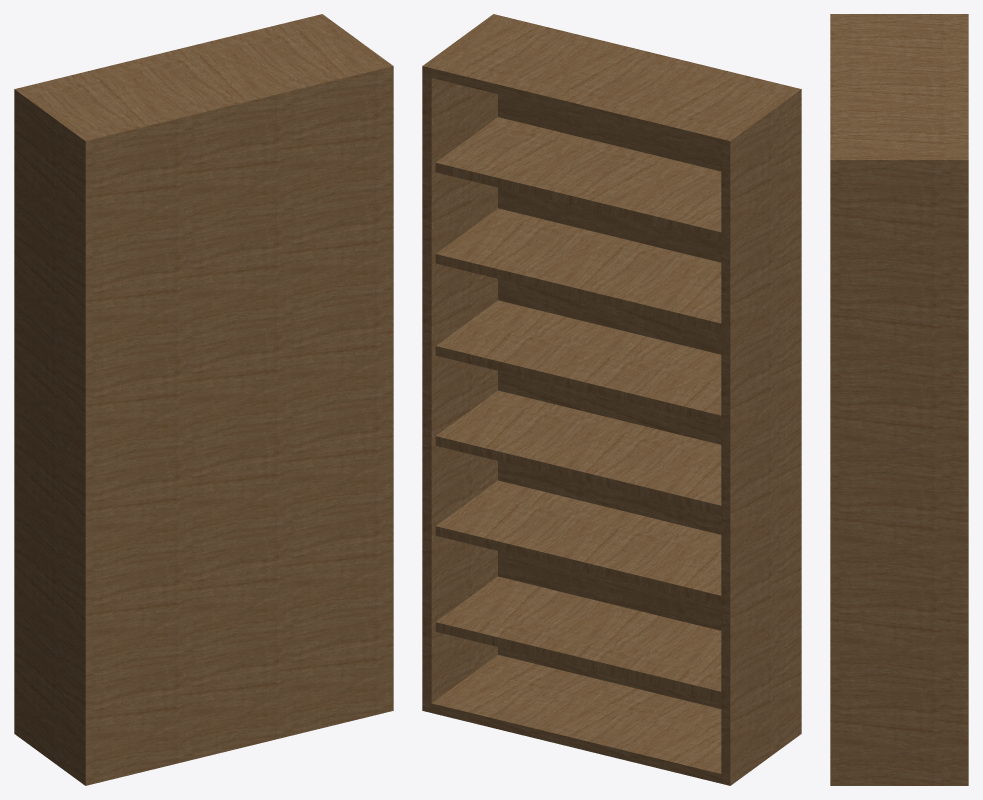
File: bookshelf.glb
The picture shows the model from 3 angles, left to right: view 1: azimuth 30°, elevation 25°; view 2: azimuth 150°, elevation 25°; view 3: azimuth 270°, elevation 25°; orthographic projection. The views are drawn at different scales.
Visible parts, largest first — view 1: Cube; view 2: Cube; view 3: Cube.
Part boxes in pixels (x1=…): Cube: x1=14, y1=14, x2=393, y2=785; Cube: x1=422, y1=14, x2=801, y2=785; Cube: x1=830, y1=14, x2=968, y2=785.
Size of the model in its own units: 2 by 4 by 0.8.
1 material, 1 textured.
